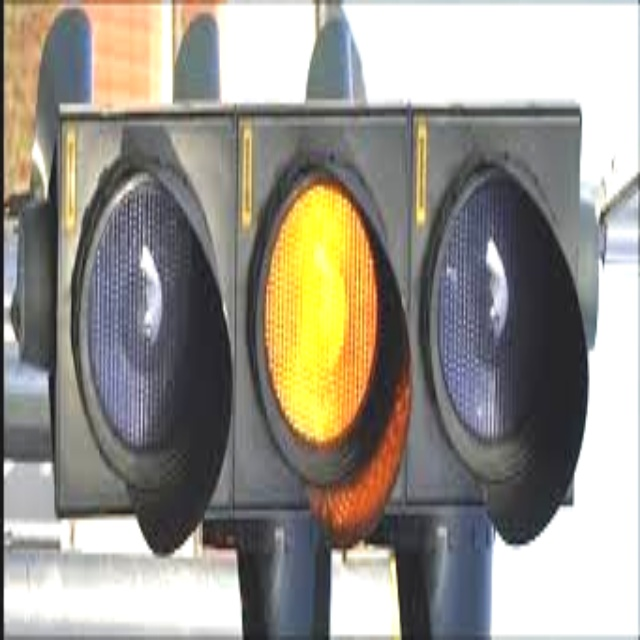yellow_light: (257, 177, 378, 454)
